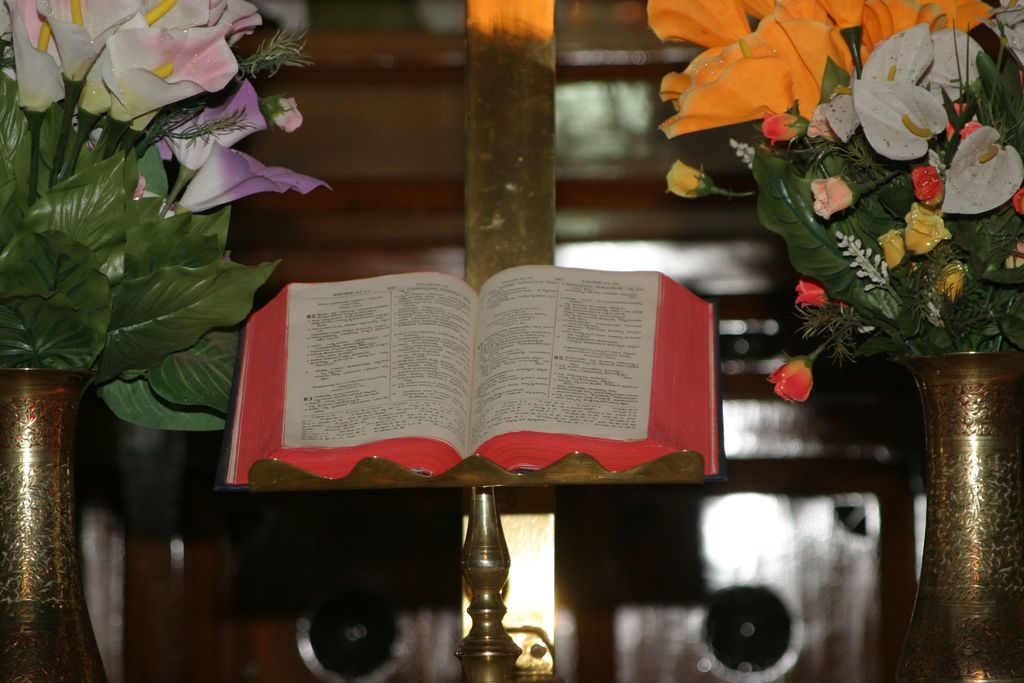Book: (161, 270, 649, 518)
